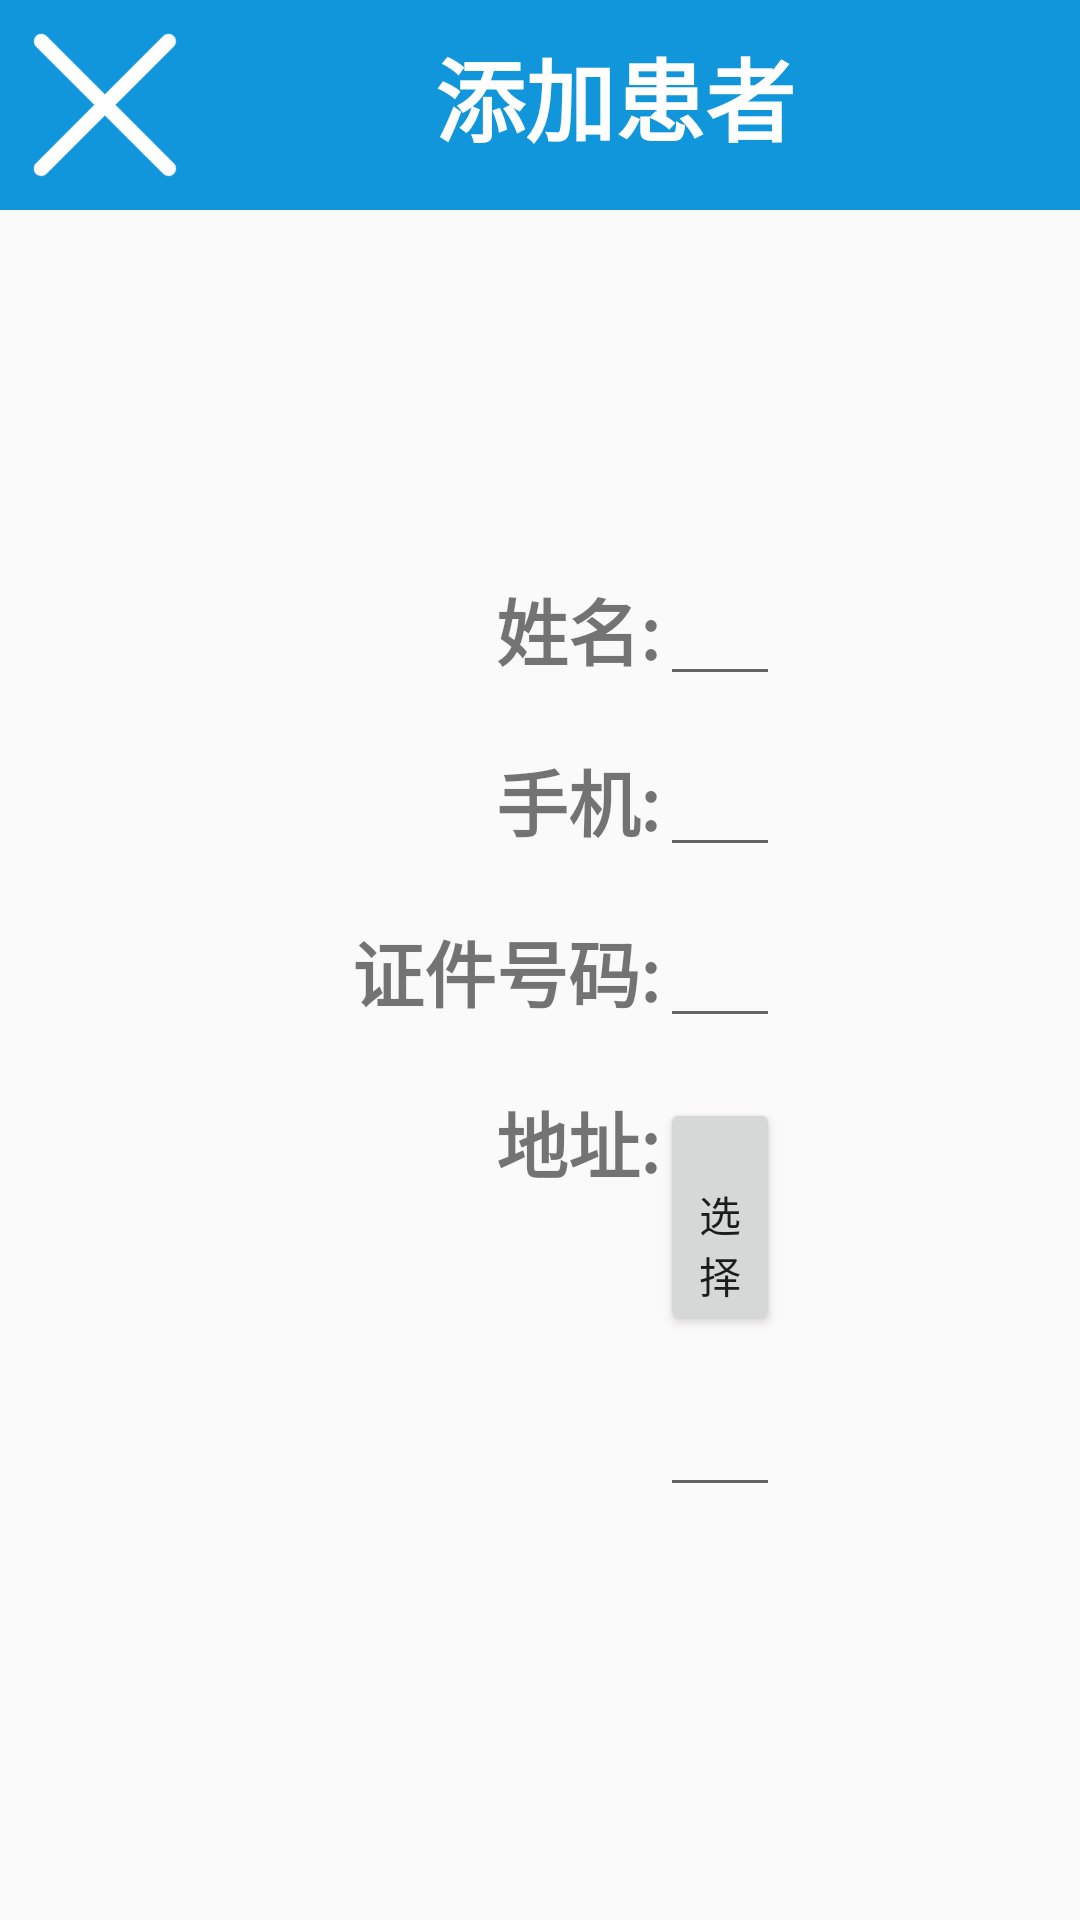

Icon click points for this 1080×1920 phone screenshot, format (x,y):
close: (105,105)
